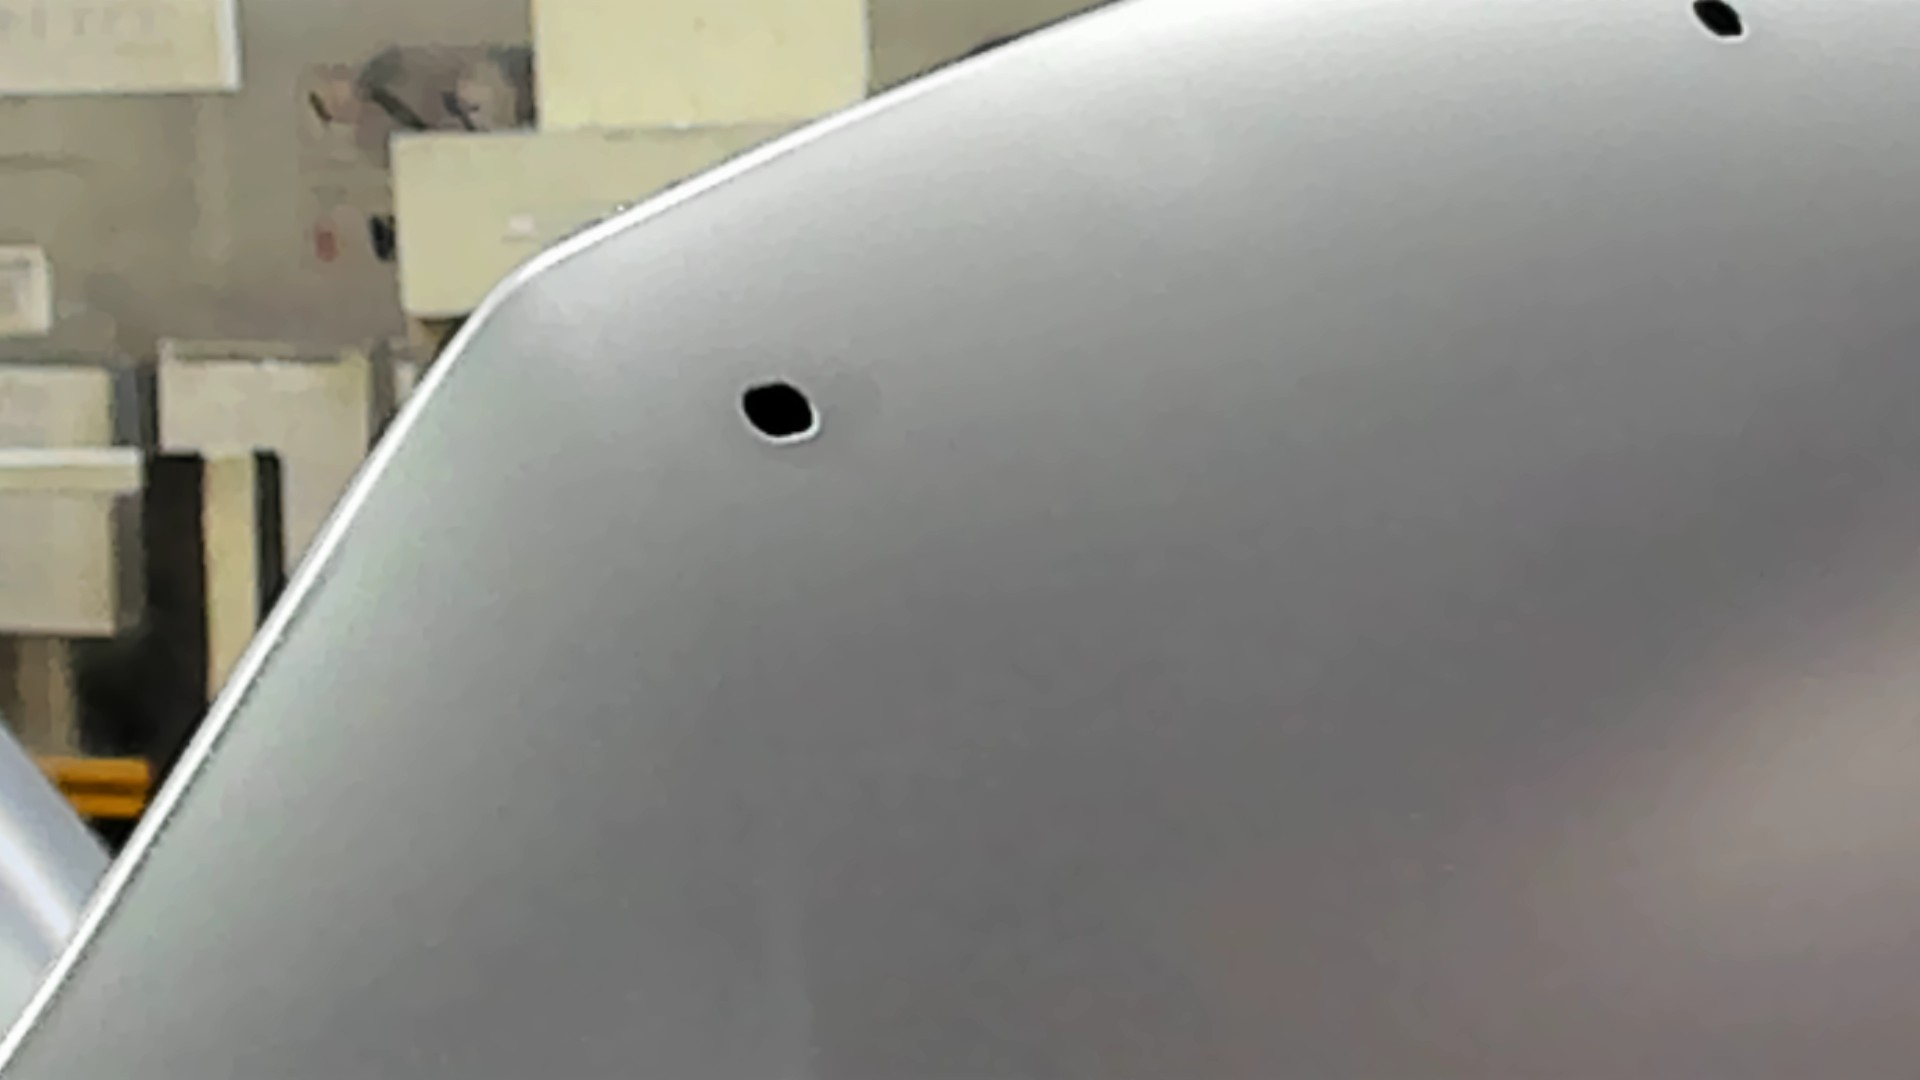amorfo: (735, 378, 816, 447), (1687, 1, 1751, 45)
